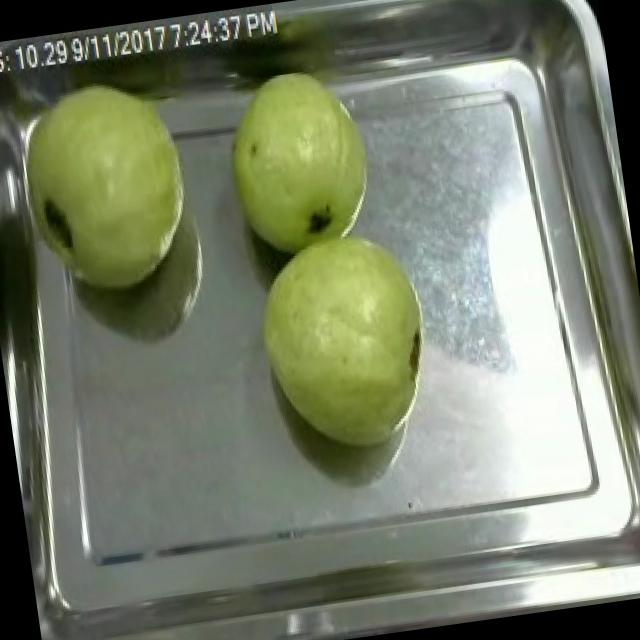Fruit: (0, 59, 212, 312), (240, 216, 450, 464), (208, 54, 388, 268)
